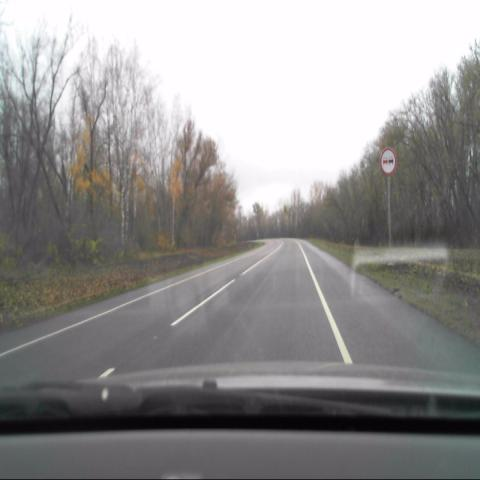3_20: (380, 148, 396, 175)
